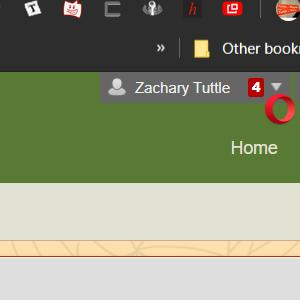opera: (265, 93, 296, 125)
